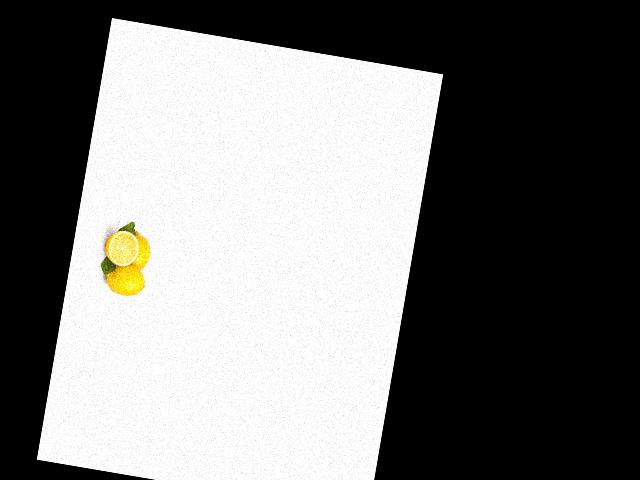lemon: (125, 227, 156, 270)
